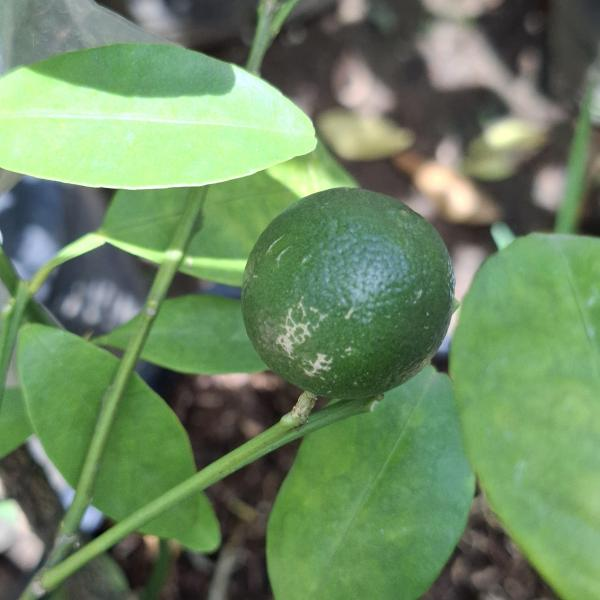Scab: (238, 179, 467, 415)
